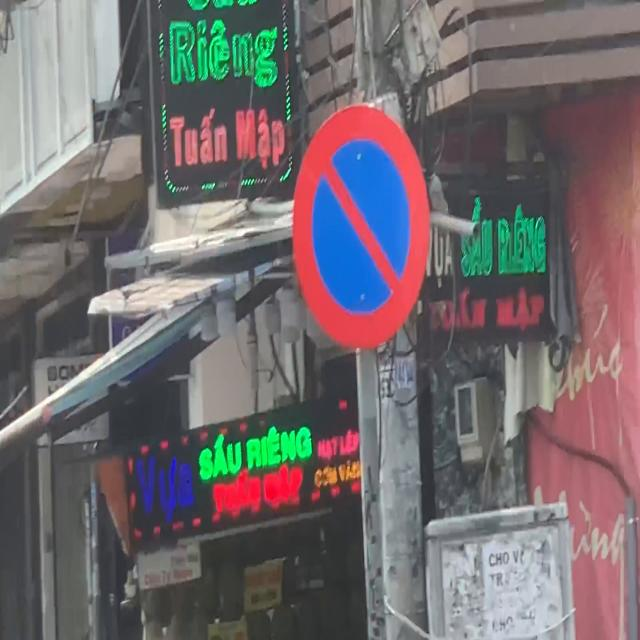Cam do: (293, 103, 432, 348)
